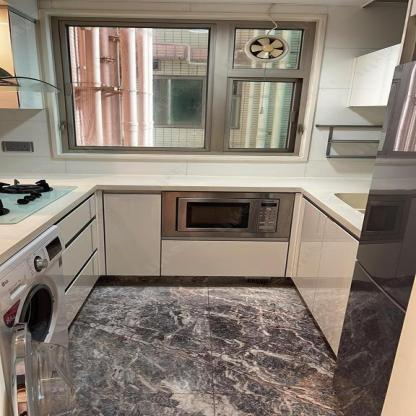Exhaust Fan: (232, 27, 305, 70)
Microwave: (160, 191, 296, 242)
Stove: (0, 171, 104, 233)
Washing Machine: (0, 223, 72, 349)
